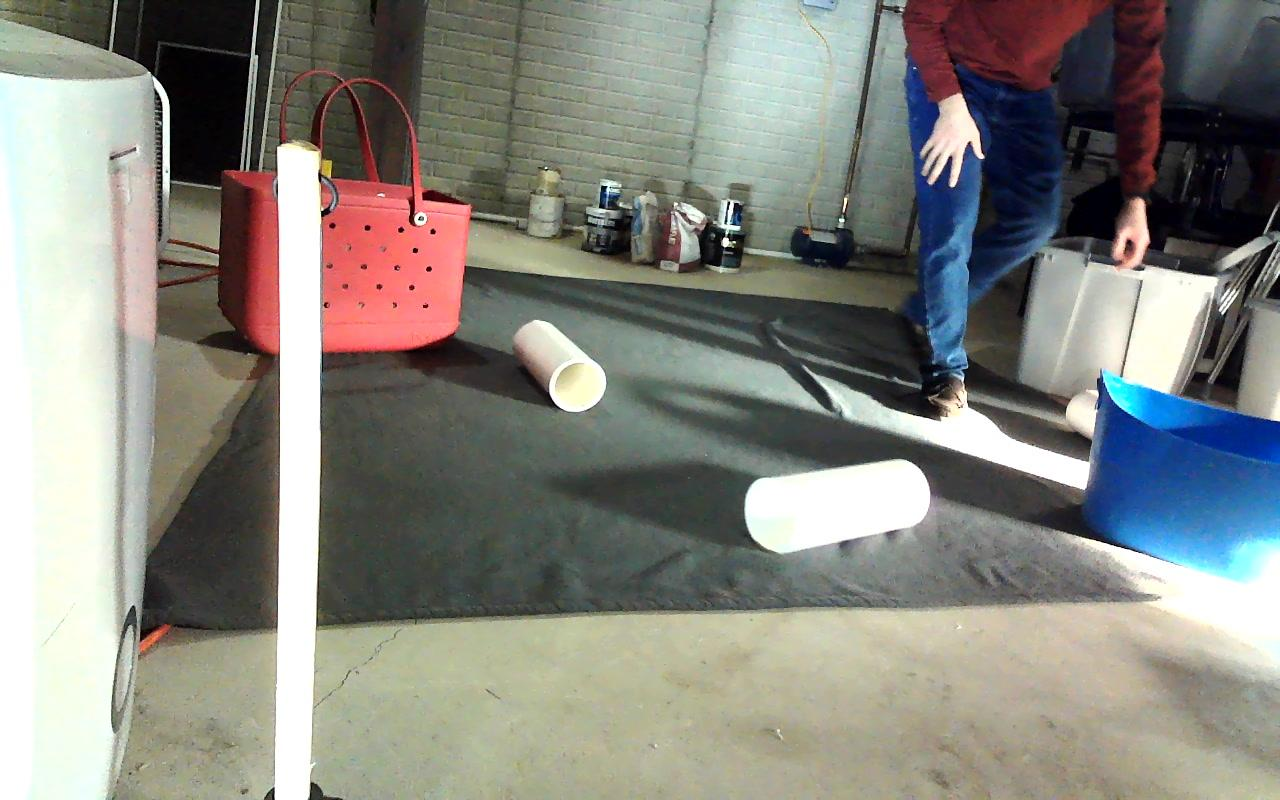coral: (748, 459, 929, 553), (516, 320, 604, 412)
